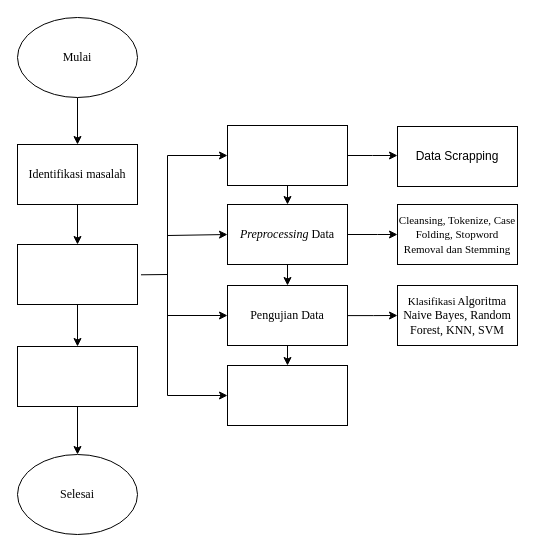
Some shapes in this 535 by 552 pixel diagram are drawn without their labels. Here are the shapes that lost their labels. From the top down, the centre of each, then its label:
At pixel 287 155: "Pengumpulan Data".
At pixel 77 274: "Implementasi Analisis Sentimen".
At pixel 77 376: "Analisa Keluaran".
At pixel 287 395: "Analisis Confusion Matrix".
